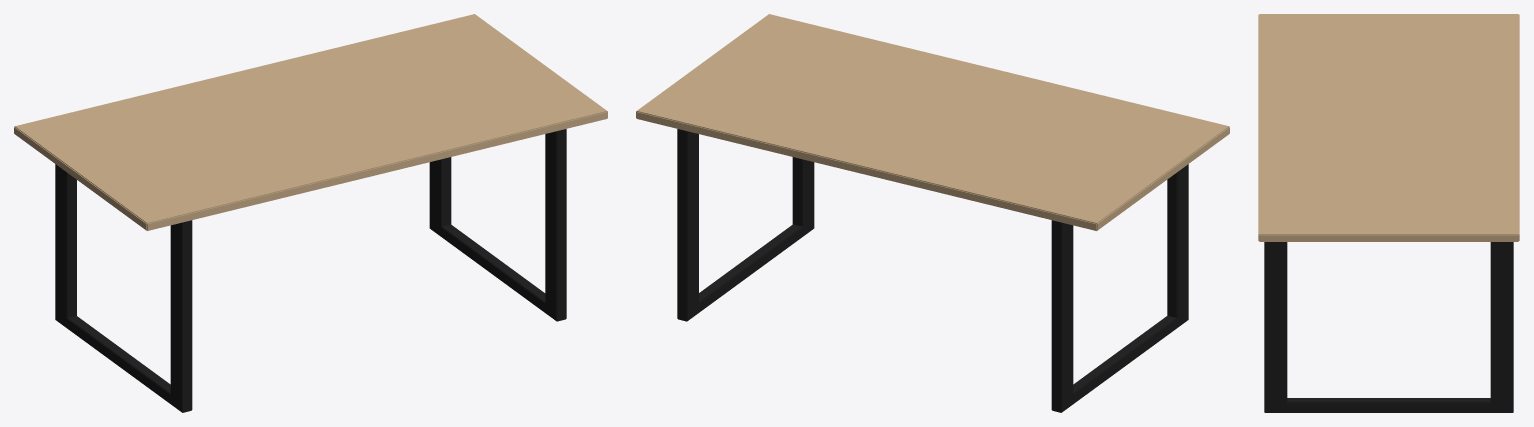
3 views of the same model, side by side, from view 1: azimuth 30°, elevation 25°; view 2: azimuth 150°, elevation 25°; view 3: azimuth 270°, elevation 25° (orthographic). The views are drawn at different scales.
Visible parts, largest first — view 1: scandus-dining-table; view 2: scandus-dining-table; view 3: scandus-dining-table.
Part boxes in pixels (x1,y1,x2,y2): scandus-dining-table: (14,14,607,412); scandus-dining-table: (636,14,1229,412); scandus-dining-table: (1258,14,1519,412).
Bounding box in the file's own units: 1.8 × 0.75 × 0.9001.
